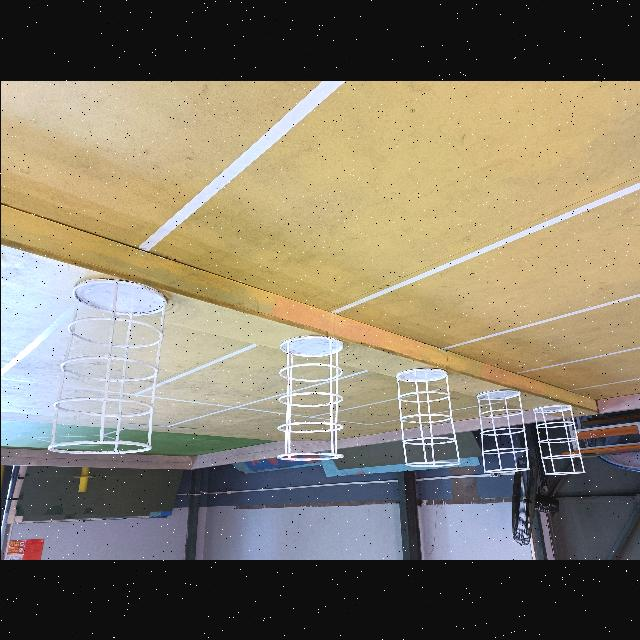S: (44, 273, 166, 455), (272, 328, 346, 462), (392, 366, 460, 468), (474, 388, 528, 474), (532, 405, 586, 475)
